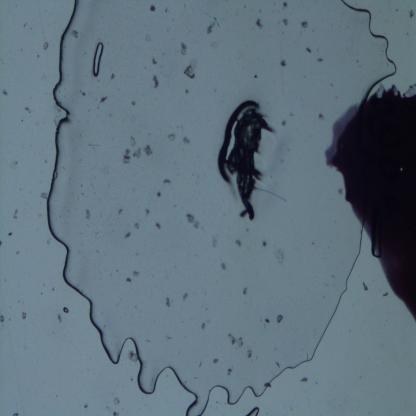Air bubble: (47, 1, 400, 413), (91, 38, 105, 79), (246, 406, 260, 414)
Background material: (216, 95, 278, 223), (121, 134, 153, 166), (226, 330, 245, 349), (184, 210, 200, 231), (184, 58, 197, 78), (55, 307, 68, 325), (97, 95, 110, 113), (20, 101, 34, 116), (206, 17, 217, 35), (274, 247, 284, 266), (150, 74, 160, 92), (128, 348, 139, 364), (106, 395, 121, 406), (254, 17, 264, 31), (178, 42, 188, 55), (70, 28, 80, 41), (83, 207, 92, 221), (132, 220, 141, 233), (199, 320, 208, 333), (318, 111, 327, 123), (211, 232, 217, 250), (225, 364, 233, 377), (409, 7, 416, 21), (13, 208, 20, 222), (183, 135, 191, 147), (148, 4, 157, 14), (132, 268, 140, 279), (220, 263, 228, 274), (6, 228, 13, 240), (164, 296, 171, 308), (144, 206, 151, 218), (276, 312, 283, 324), (245, 350, 253, 360), (300, 19, 308, 29), (280, 115, 286, 128), (41, 190, 48, 201), (42, 40, 49, 51), (163, 177, 172, 185), (167, 134, 176, 142), (236, 238, 242, 250), (20, 311, 26, 323), (242, 286, 248, 297), (362, 281, 368, 292), (2, 89, 10, 97), (282, 18, 290, 26), (279, 58, 286, 67), (151, 56, 157, 66), (213, 356, 219, 366), (117, 207, 123, 217), (306, 46, 313, 54), (156, 190, 162, 199), (125, 232, 131, 240), (0, 315, 5, 324), (317, 56, 324, 62), (156, 223, 162, 230)
Pen: (327, 87, 416, 327)
